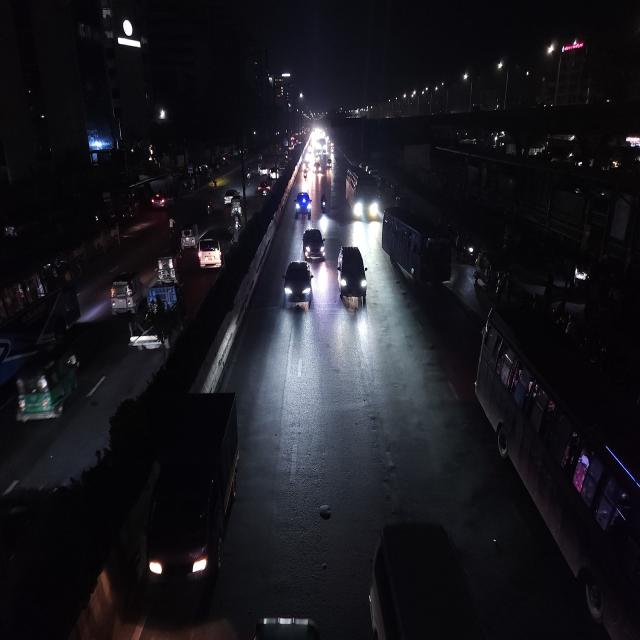bus: (482, 302, 640, 639), (0, 241, 78, 381), (380, 204, 454, 293), (343, 164, 381, 222)
car: (336, 240, 370, 308), (280, 258, 314, 315), (196, 225, 234, 273), (301, 226, 327, 262), (293, 188, 313, 220), (257, 176, 273, 197), (222, 187, 238, 205)
cng: (16, 345, 82, 429), (106, 268, 142, 318), (155, 248, 179, 283), (180, 219, 198, 250)
motorcycle: (231, 207, 243, 234), (320, 193, 328, 215), (205, 198, 214, 217), (301, 165, 309, 182)
truck: (140, 388, 242, 608), (128, 279, 186, 358)
